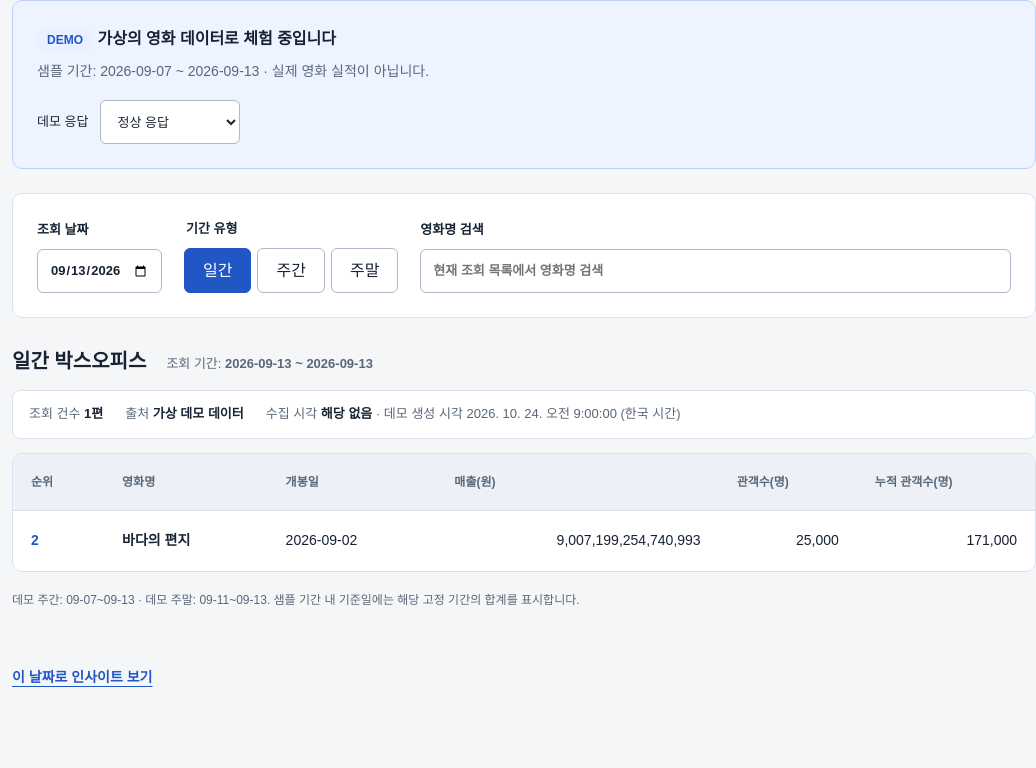
F1 데모 화면 › 큰 정수를 정확히 표시하고 검색 후에도 원래 순위를 유지한다
Expected: the text "9,007,199,254,740,993" is shown, 436,511 -> 719,571
Expected: the text "가상 데모 데이터" is shown, 153,406 -> 244,422
Type " 바다 " into the search field at [716, 272], box 420,250 -> 1011,294
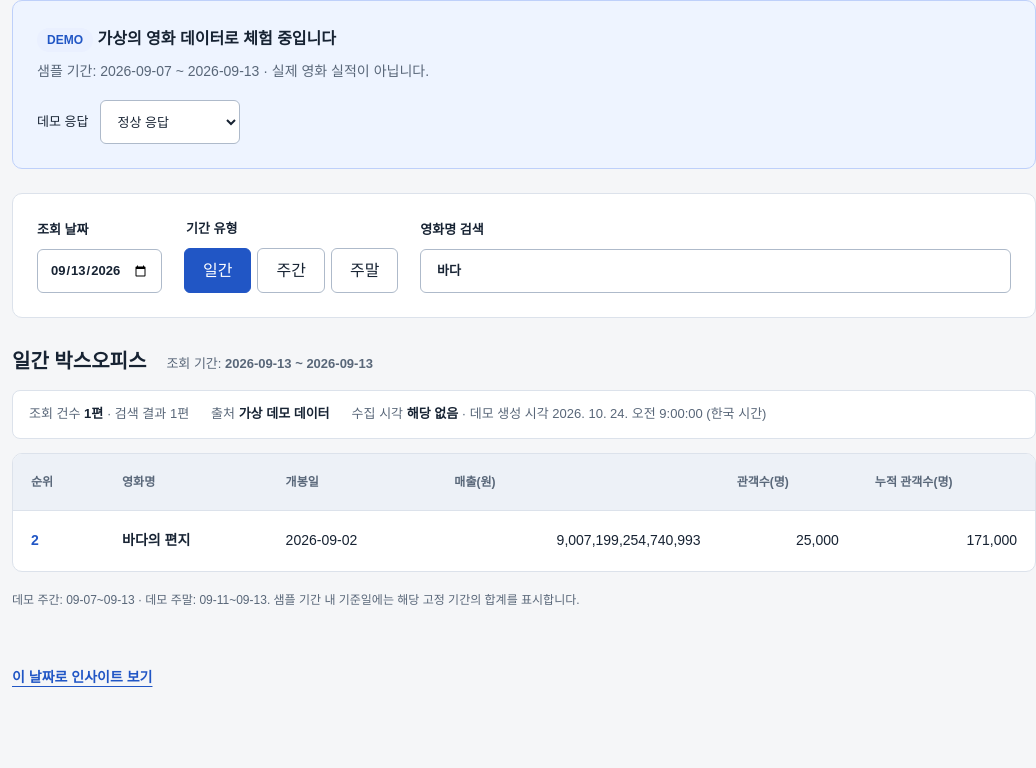
Expected: the row "2 바다의 편지 2026-09-02 9,007,199,254,740,993 25,000 171,000" is shown, 13,511 -> 1035,571
Replace the text in the search field with "없는제목" at [716, 272], box 420,250 -> 1011,294
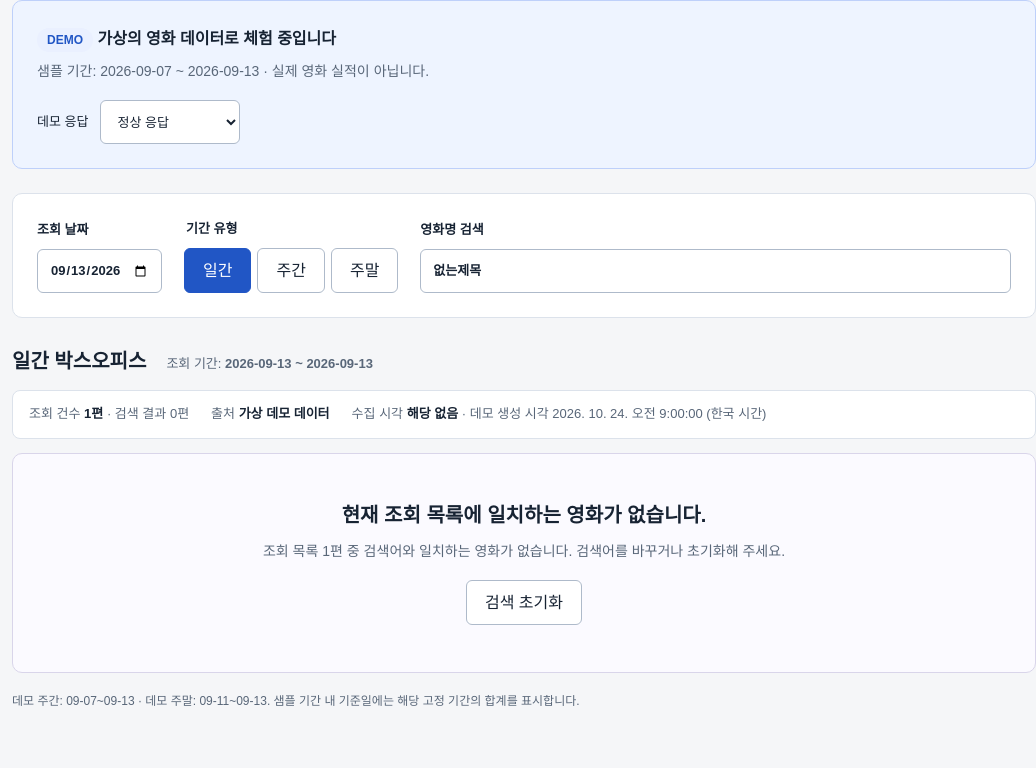
Expected: the heading "현재 조회 목록에 일치하는 영화가 없습니다." is shown, 342,500 -> 706,530
Click the button "검색 초기화" at [524, 602], box 466,580 -> 582,625
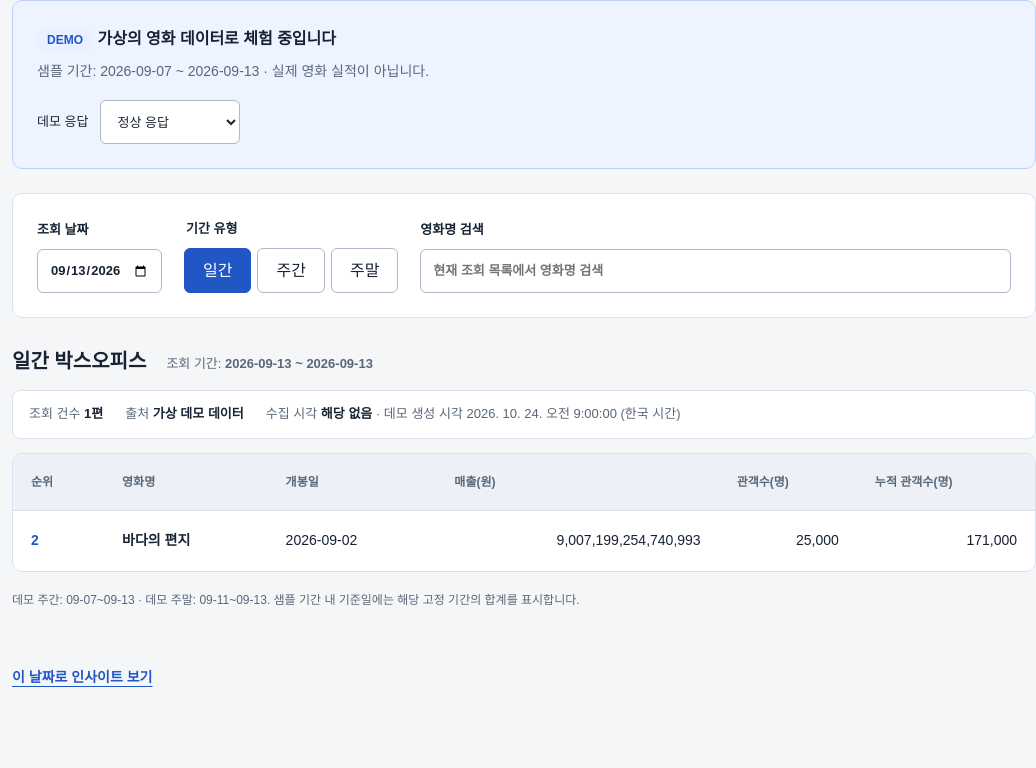
Expected: the table is shown, 13,454 -> 1035,571
